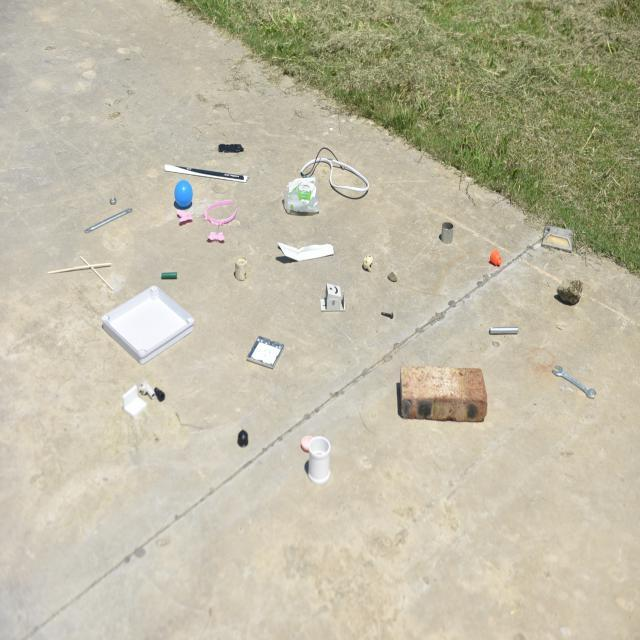Debris: (283, 137, 373, 220), (392, 354, 494, 426), (95, 288, 196, 359), (172, 191, 250, 255), (109, 369, 175, 429), (541, 355, 601, 407), (295, 429, 344, 489), (80, 194, 142, 238), (159, 159, 257, 183), (40, 256, 120, 278), (269, 240, 336, 264), (242, 332, 285, 368), (315, 278, 349, 316), (550, 272, 588, 305), (540, 220, 576, 252), (429, 210, 459, 246), (228, 426, 259, 459), (169, 178, 198, 213), (223, 250, 250, 282), (209, 139, 257, 156), (483, 243, 509, 272), (479, 323, 526, 339), (155, 266, 184, 284), (355, 255, 375, 274), (375, 306, 397, 323), (388, 268, 398, 286)
